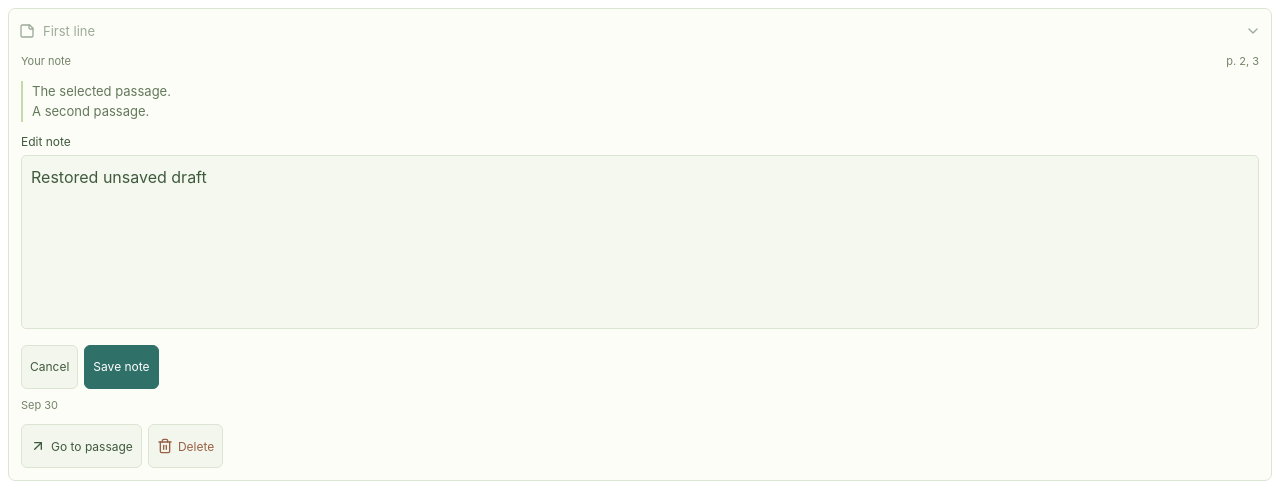
Test: saved note cards › restores controlled drafts and reports edit, cancel, and successful saves to the owner
This screenshot has width=1280, height=498.
Replace the text in the text box labelled "Edit note" with "Updated draft" at (640, 242), box left=21, top=155, right=1259, bottom=329
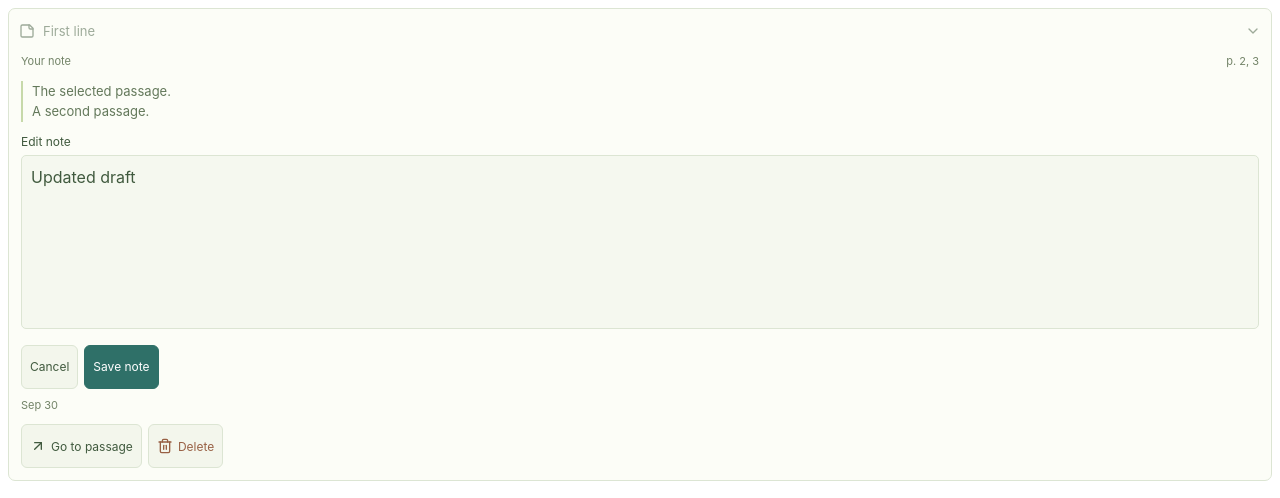
Click the button "Save note" at (122, 367), box left=84, top=345, right=159, bottom=389
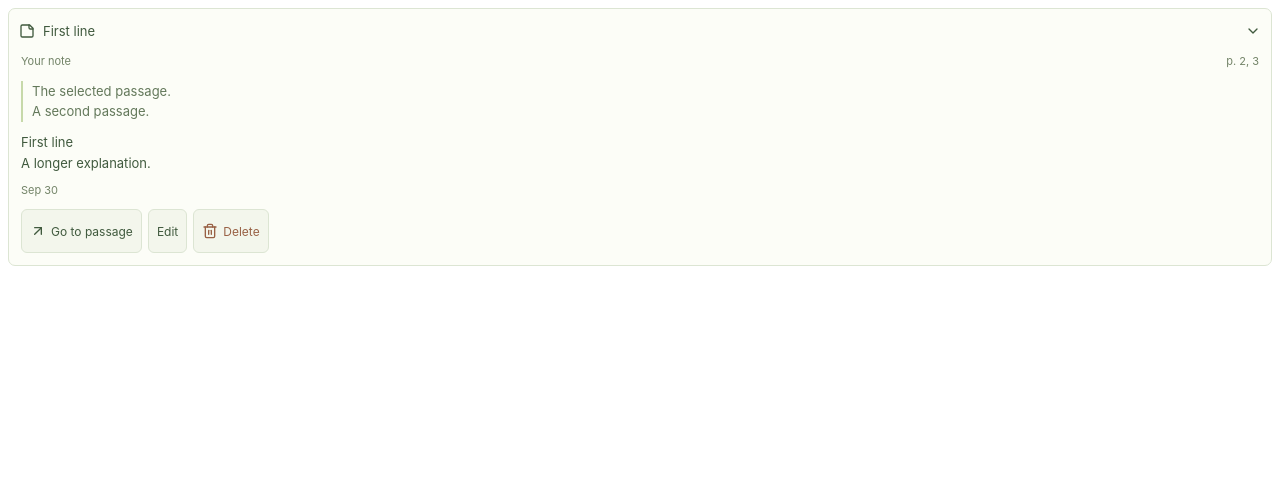
Now the label "Edit note" is gone
Click the button "Edit" at (168, 231), box left=148, top=209, right=187, bottom=253
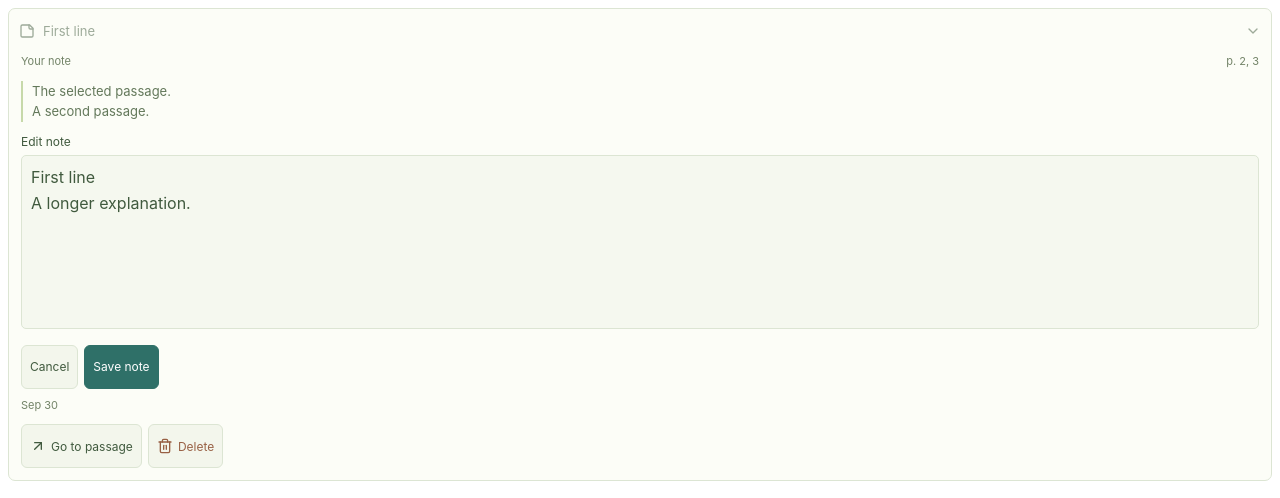
Click the button "Cancel" at (50, 367), box left=21, top=345, right=78, bottom=389
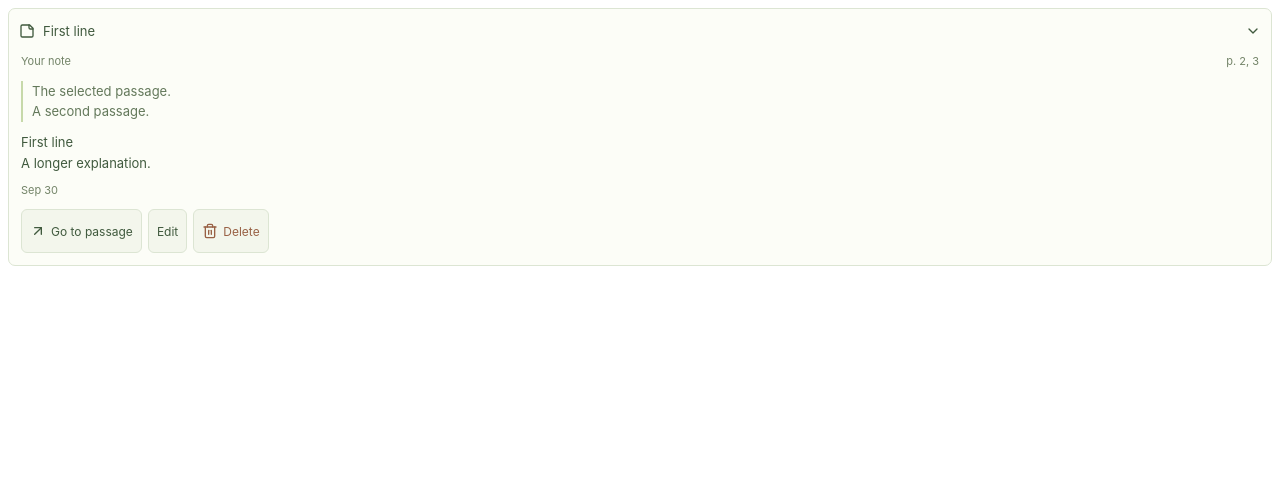
Now the label "Edit note" is gone
